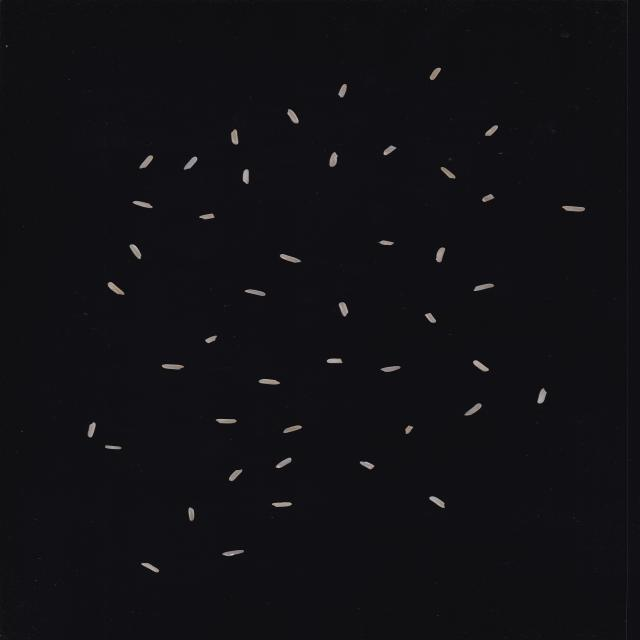Not: (463, 403, 482, 416), (107, 282, 125, 295), (129, 243, 142, 260), (274, 457, 292, 469), (183, 156, 198, 170), (228, 468, 243, 482), (429, 496, 445, 509), (279, 254, 302, 263), (472, 360, 489, 372), (140, 563, 160, 573), (473, 283, 495, 292), (139, 155, 153, 169), (440, 167, 456, 179), (221, 549, 245, 557), (287, 109, 299, 124), (132, 200, 154, 208), (244, 288, 266, 296), (435, 247, 446, 263), (561, 205, 586, 212), (282, 425, 303, 433), (338, 302, 349, 317), (258, 378, 281, 385), (537, 388, 547, 404), (424, 312, 437, 324), (383, 145, 397, 156), (484, 125, 498, 136), (429, 68, 441, 80), (161, 364, 185, 370), (359, 461, 375, 470), (87, 422, 96, 438), (338, 84, 348, 98), (329, 152, 338, 167), (271, 502, 293, 508), (231, 129, 239, 145), (380, 366, 401, 372), (199, 213, 215, 220), (481, 194, 495, 202), (187, 507, 195, 521), (215, 419, 237, 424), (242, 169, 249, 184), (205, 336, 218, 344), (378, 240, 394, 246), (327, 358, 342, 364), (104, 445, 122, 450), (405, 425, 414, 434)
